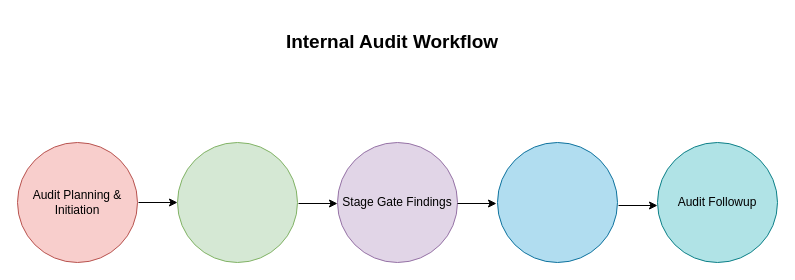
This 795x280 diagram has some shape labels left out. The centre of each missing label's shape, as x and y in pixels:
Audit Executional reporting: the point at 557,202
Audit Requirement Gathering: the point at 237,202
